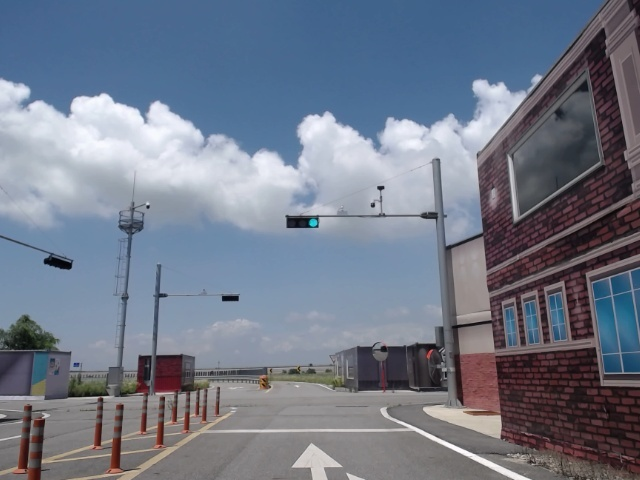green_3: (285, 217, 319, 228)
